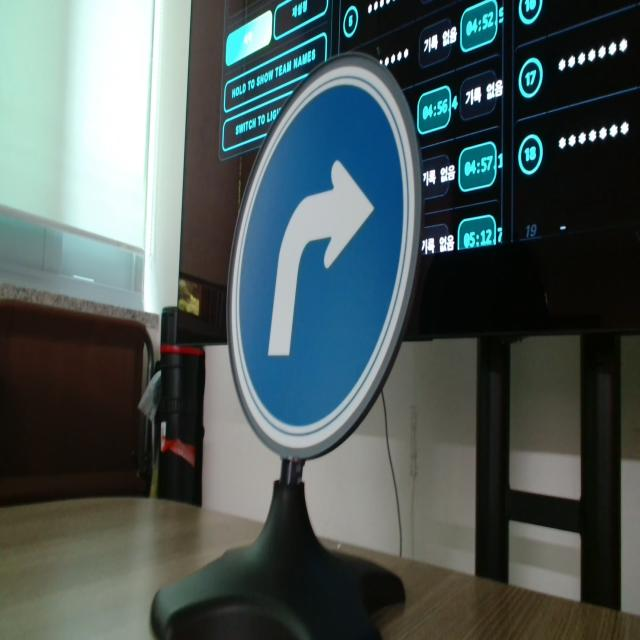right_dierection: (220, 48, 424, 450)
